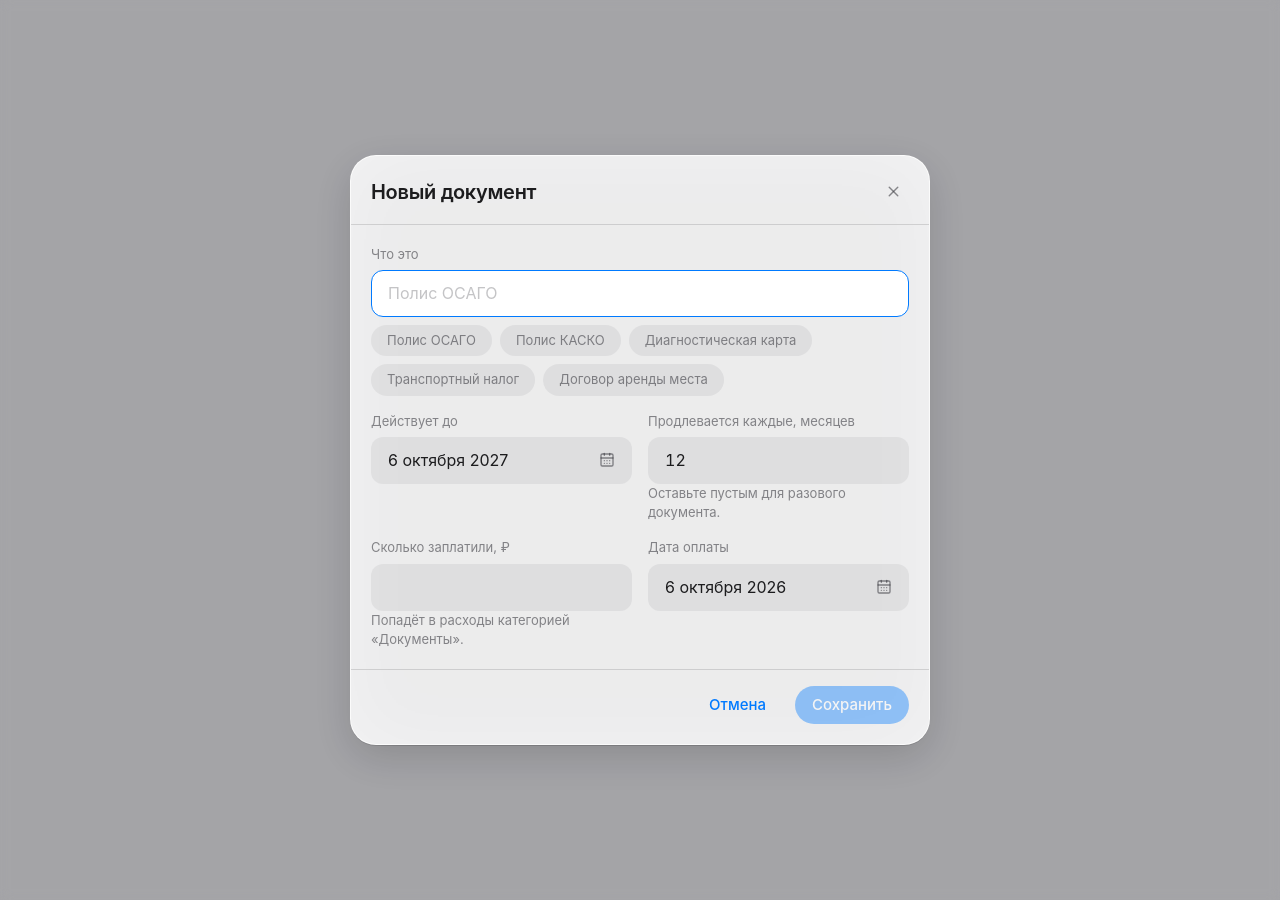
Scenario: документы › подставляет название по подсказке
This screenshot has width=1280, height=900.
Click the button "Диагностическая карта" at (720, 341), box x1=629 y1=325 x2=812 y2=356
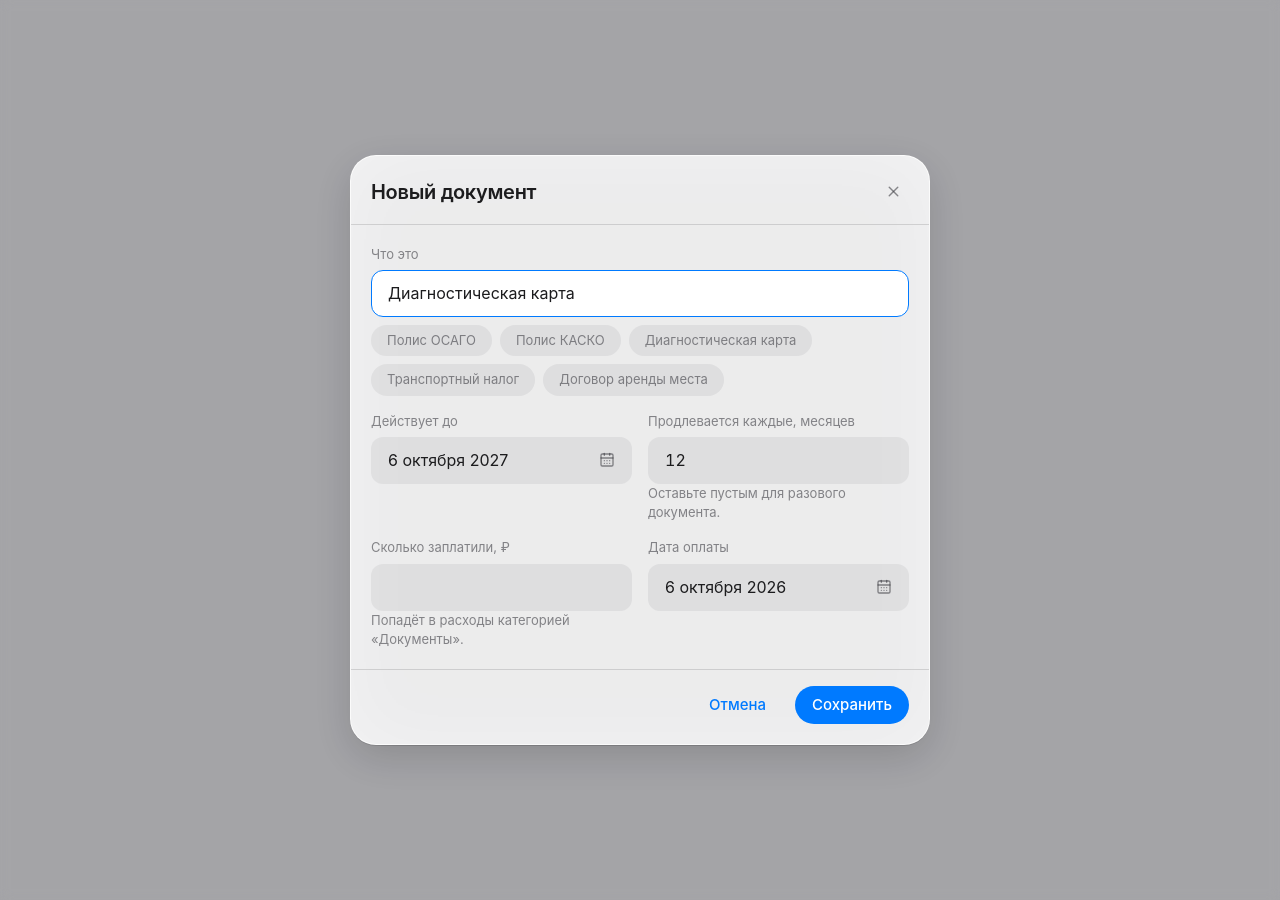
Expected: the field below "Что это" holds "Диагностическая карта", x1=371 y1=270 x2=909 y2=317
